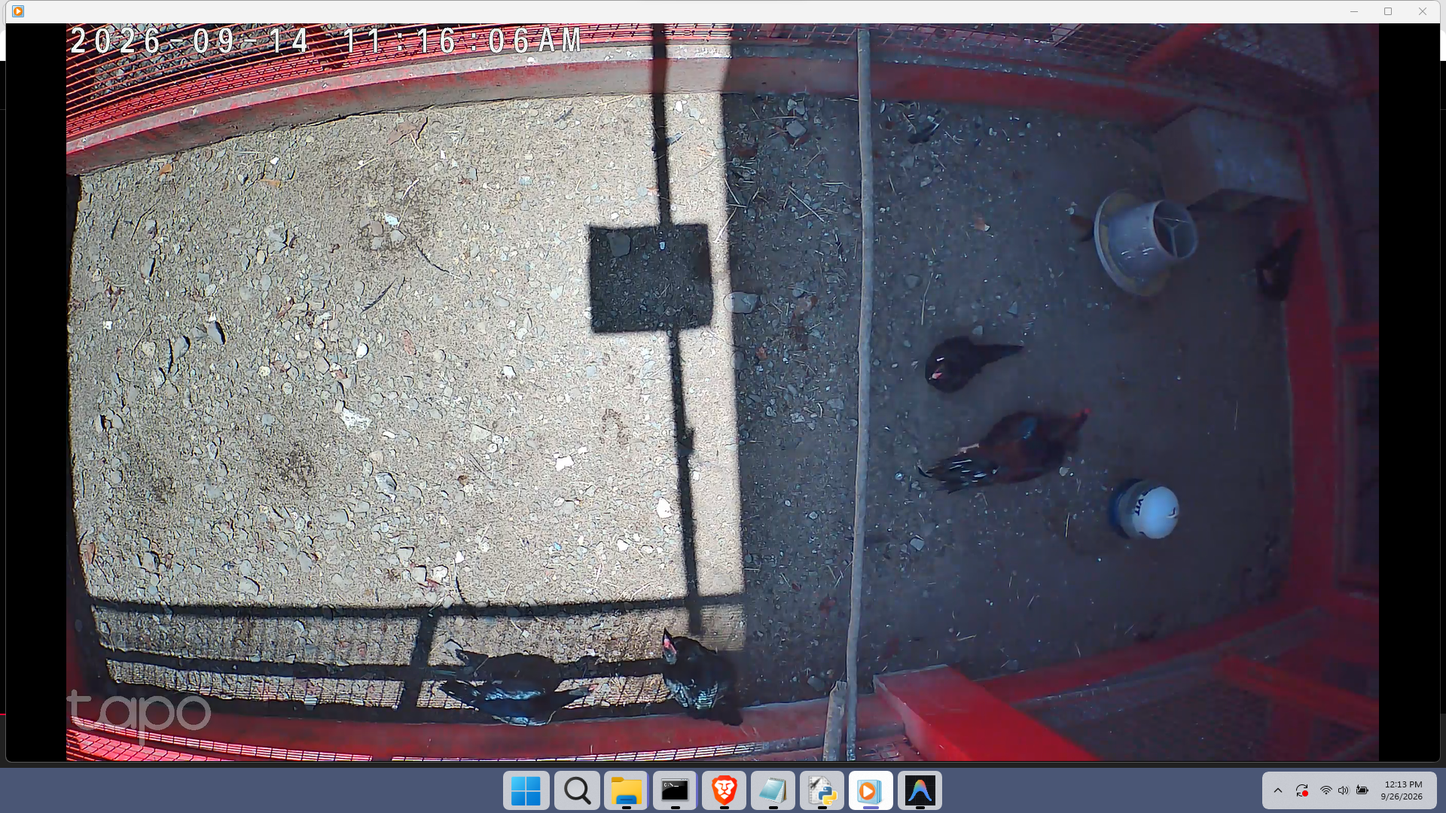Chicken: (438, 657, 608, 730), (659, 631, 746, 729), (924, 329, 1026, 396), (1238, 224, 1307, 301)
Drinker: (1109, 477, 1182, 546)
Feeder: (1095, 185, 1201, 299)
Rooster: (918, 405, 1093, 498)
